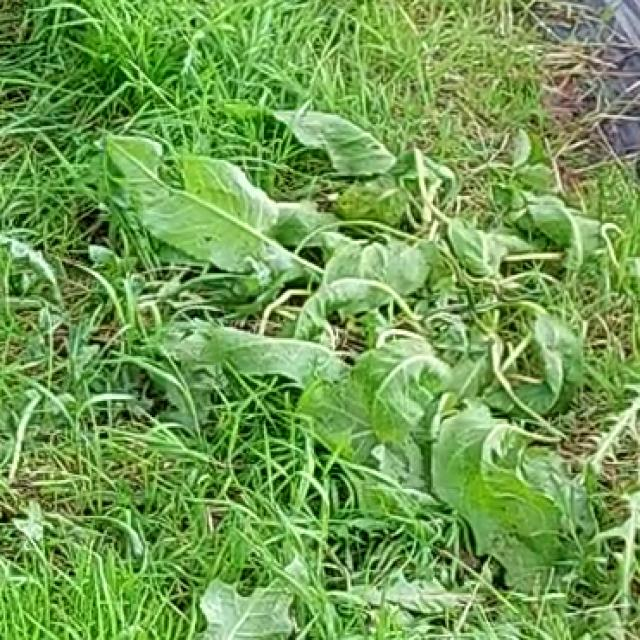organic waste: (108, 92, 516, 510)
